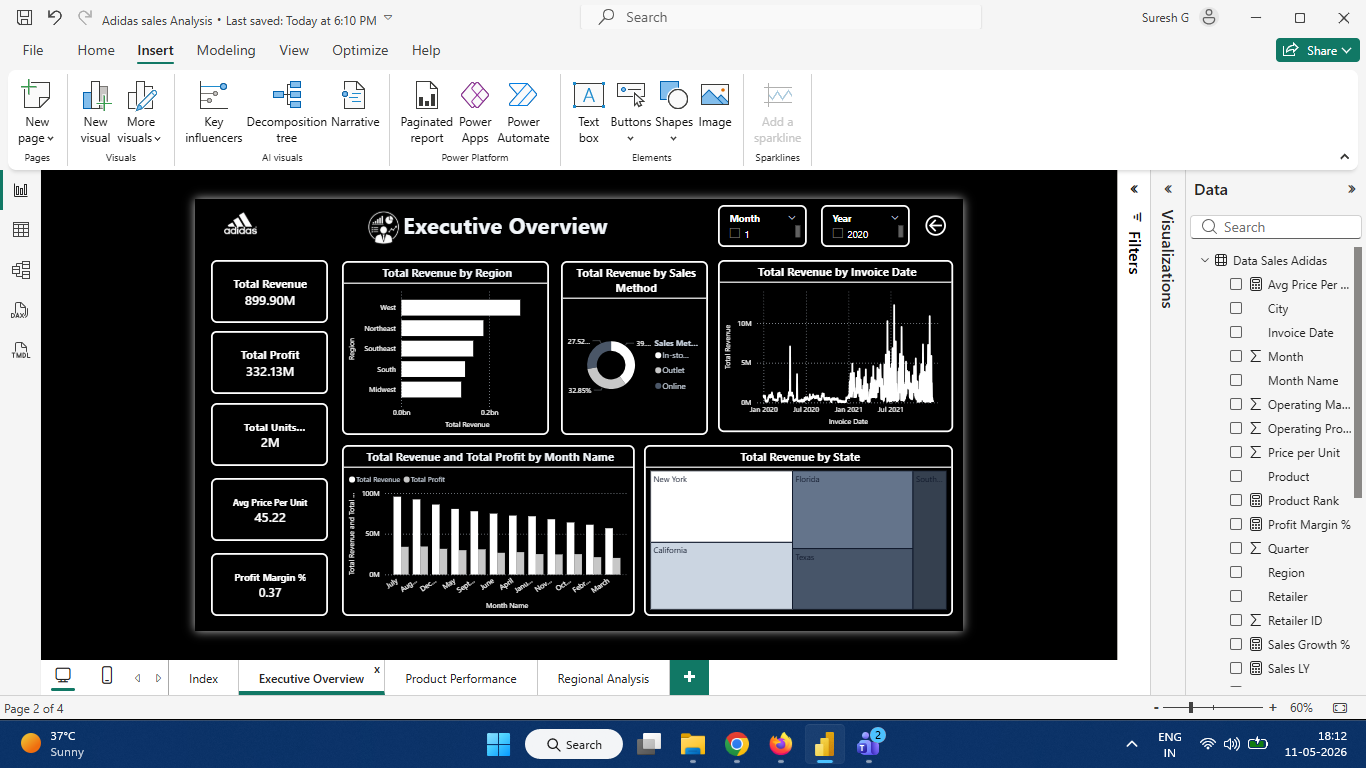

The page's visual inventory and layout, read from the dashboard file:
{"tool":"powerbi","page":{"name":"Executive Overview","canvas":[1280,720],"ordinal":1},"visuals":[{"type":"textbox","box":[286.7,13.3,461.7,70],"z":0},{"type":"image","box":[258.3,13.3,111.7,70],"z":1},{"type":"cardVisual","fields":{"Data":["Data Sales Adidas.Total Revenue"]},"box":[26.7,101.7,195,105],"z":2},{"type":"cardVisual","fields":{"Data":["Data Sales Adidas.Total Profit"]},"box":[26.7,220,195,105],"z":3},{"type":"cardVisual","fields":{"Data":["Data Sales Adidas.Total Units Sold"]},"box":[26.7,340,195,105],"z":4},{"type":"cardVisual","fields":{"Data":["Data Sales Adidas.Avg Price Per Unit"]},"box":[26.7,465,195,105],"z":5},{"type":"cardVisual","fields":{"Data":["Data Sales Adidas.Profit Margin %"]},"box":[26.7,590,195,105],"z":6},{"type":"lineChart","fields":{"Y":["Data Sales Adidas.Total Revenue"],"Category":["Data Sales Adidas.Invoice Date"]},"box":[871.7,101.7,391.7,286.7],"z":7},{"type":"clusteredBarChart","fields":{"Category":["Data Sales Adidas.Region"],"Y":["Data Sales Adidas.Total Revenue"]},"box":[245,103.3,345,290],"z":8},{"type":"donutChart","fields":{"Category":["Data Sales Adidas.Sales Method"],"Y":["Data Sales Adidas.Total Revenue"]},"box":[610,103.3,245,290],"z":9},{"type":"clusteredColumnChart","fields":{"Y":["Data Sales Adidas.Total Revenue","Data Sales Adidas.Total Profit"],"Category":["Data Sales Adidas.Month Name"]},"box":[245,410,488.3,285],"z":10},{"type":"treemap","fields":{"Values":["Data Sales Adidas.Total Revenue"],"Group":["Data Sales Adidas.State"]},"box":[748.3,410,515,285],"z":11},{"type":"actionButton","box":[1205,21.7,58.3,45],"z":12},{"type":"image","box":[18.3,16.7,113.3,50],"z":13},{"type":"slicer","fields":{"Values":["Data Sales Adidas.Year"]},"box":[1043.3,10,148.3,70],"z":14},{"type":"slicer","fields":{"Values":["Data Sales Adidas.Month"]},"box":[871.7,10,148.3,70],"z":15}]}

Visuals, with their boxes on the page's 1280x720 design canvas (x1, y1, x2, y2). These are canvas units, not pixel positions in the 1366x768 screenshot, which may show the page scaled, cropped or inside an application window:
textbox: Rect(287, 13, 748, 83)
image: Rect(258, 13, 370, 83)
cardVisual - Data Sales Adidas.Total Revenue: Rect(27, 102, 222, 207)
cardVisual - Data Sales Adidas.Total Profit: Rect(27, 220, 222, 325)
cardVisual - Data Sales Adidas.Total Units Sold: Rect(27, 340, 222, 445)
cardVisual - Data Sales Adidas.Avg Price Per Unit: Rect(27, 465, 222, 570)
cardVisual - Data Sales Adidas.Profit Margin %: Rect(27, 590, 222, 695)
lineChart - Data Sales Adidas.Total Revenue x Data Sales Adidas.Invoice Date: Rect(872, 102, 1263, 388)
clusteredBarChart - Data Sales Adidas.Region x Data Sales Adidas.Total Revenue: Rect(245, 103, 590, 393)
donutChart - Data Sales Adidas.Sales Method x Data Sales Adidas.Total Revenue: Rect(610, 103, 855, 393)
clusteredColumnChart - Data Sales Adidas.Total Revenue x Data Sales Adidas.Total Profit: Rect(245, 410, 733, 695)
treemap - Data Sales Adidas.Total Revenue x Data Sales Adidas.State: Rect(748, 410, 1263, 695)
actionButton: Rect(1205, 22, 1263, 67)
image: Rect(18, 17, 132, 67)
slicer - Data Sales Adidas.Year: Rect(1043, 10, 1192, 80)
slicer - Data Sales Adidas.Month: Rect(872, 10, 1020, 80)
